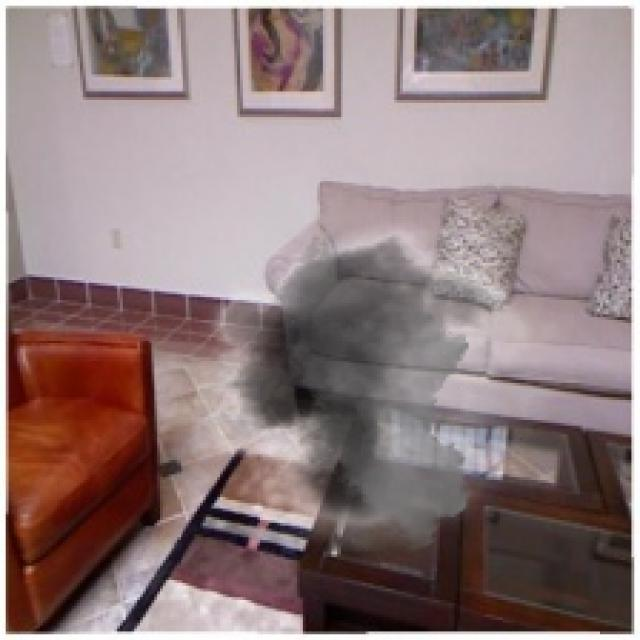smoke: (169, 206, 577, 551)
